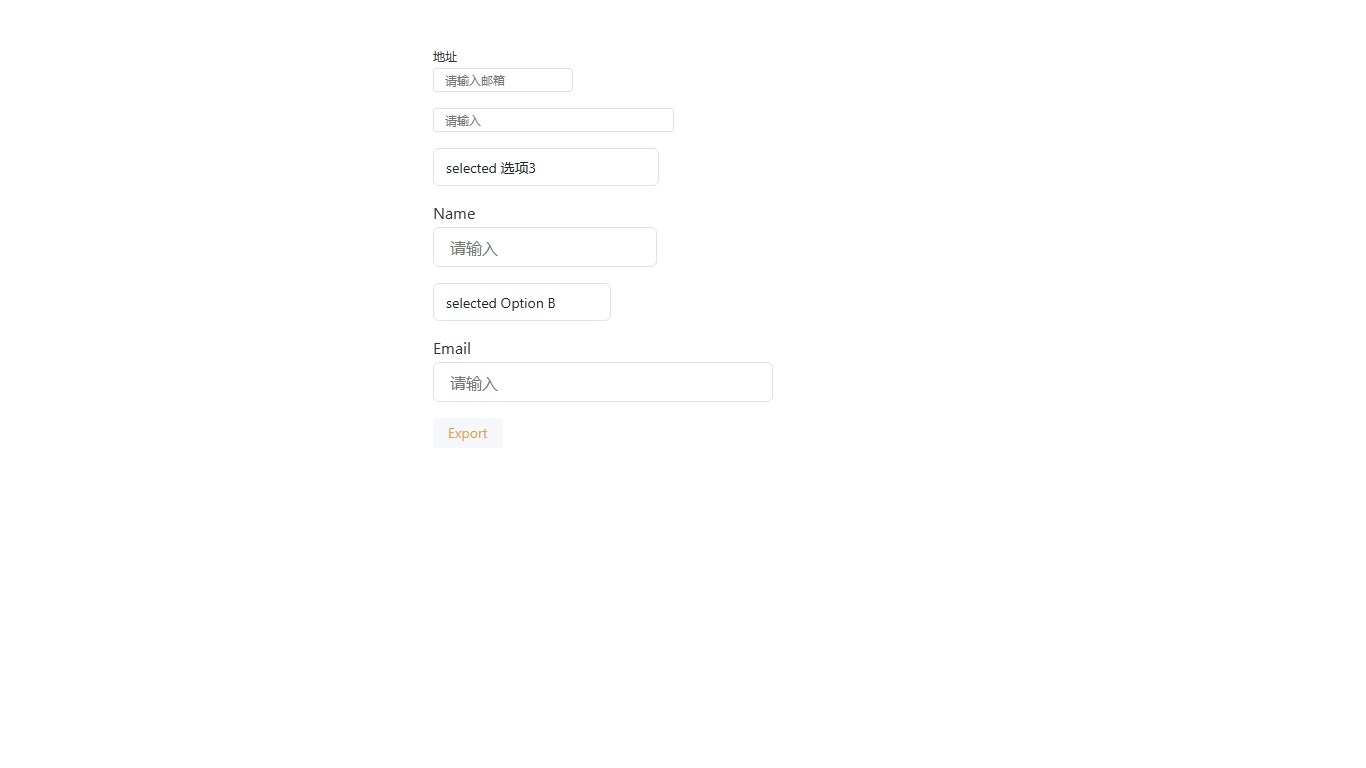button: (433, 418, 503, 448)
input: (433, 362, 773, 402), (433, 227, 657, 267), (433, 108, 674, 132), (433, 68, 573, 92)
select: (433, 148, 659, 186), (433, 283, 611, 321)
